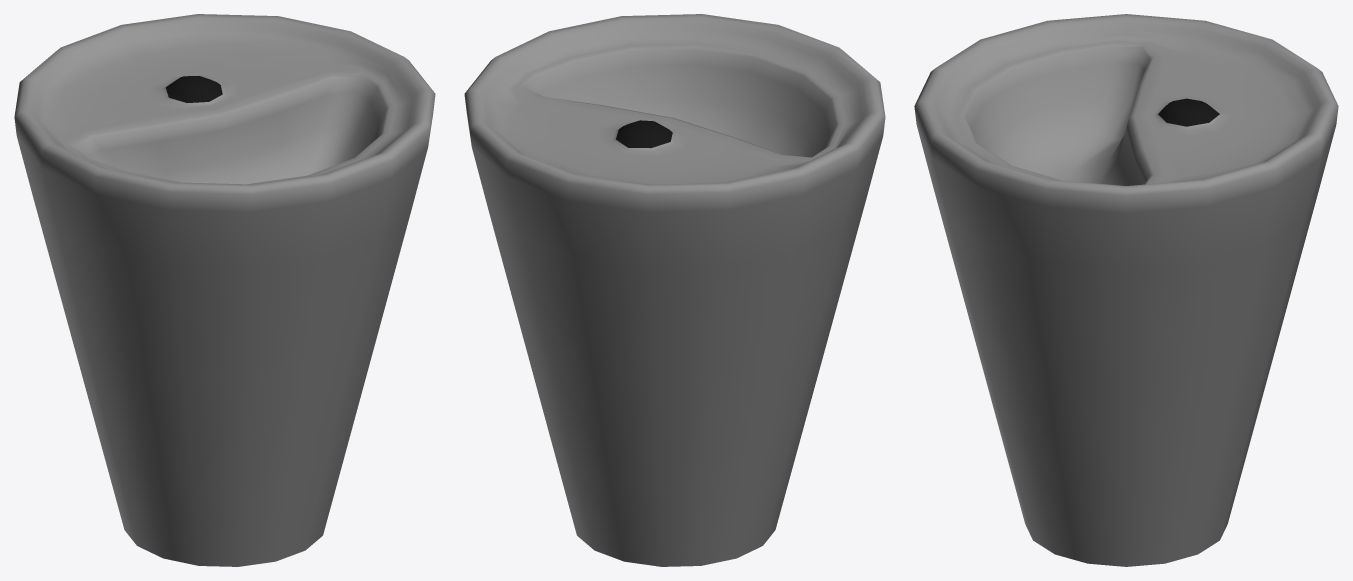
The model's file is KS_Sink.fbx.
3 views of the same model, side by side, from view 1: azimuth 30°, elevation 25°; view 2: azimuth 150°, elevation 25°; view 3: azimuth 270°, elevation 25° (orthographic).
Visible parts, largest first — view 1: KS_SInk; view 2: KS_SInk; view 3: KS_SInk.
Part boxes in pixels (bbox=[...]): KS_SInk: bbox=[14, 14, 435, 566]; KS_SInk: bbox=[464, 14, 885, 566]; KS_SInk: bbox=[914, 14, 1338, 566].
Size of the model in its own units: 89.43 by 98.35 by 89.43.
